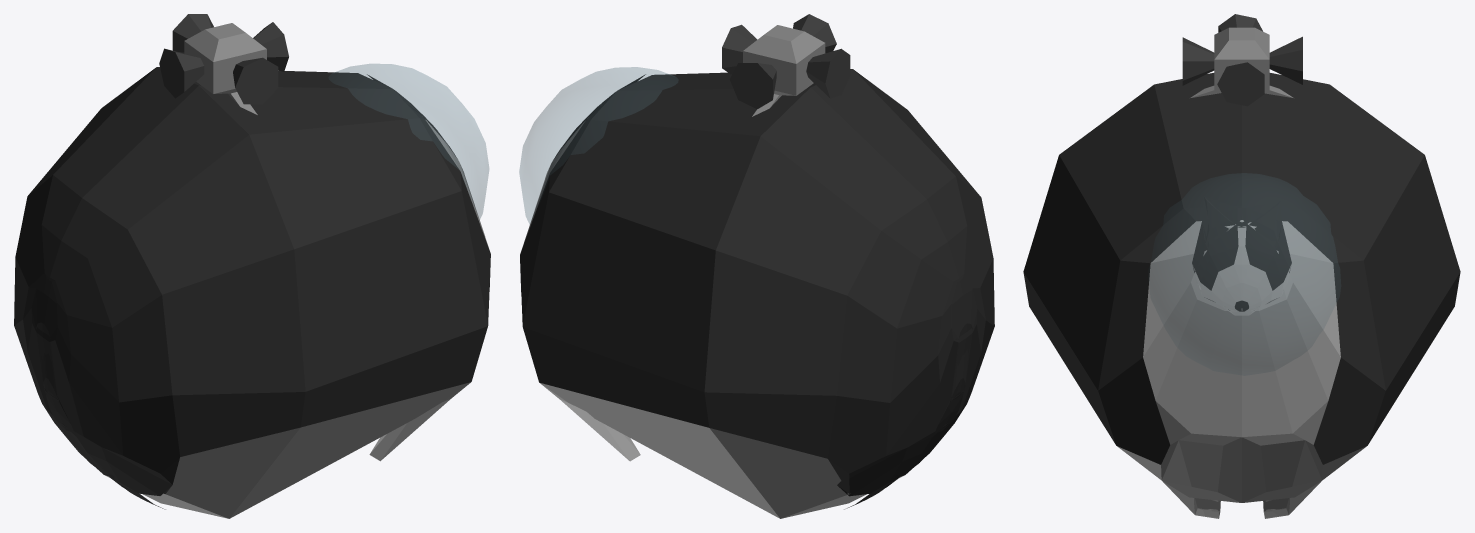
The model's file is dog.glb.
The picture shows the model from 3 angles, left to right: view 1: azimuth 30°, elevation 25°; view 2: azimuth 150°, elevation 25°; view 3: azimuth 270°, elevation 25°; orthographic projection. The views are drawn at different scales.
Visible parts, largest first — view 1: Dog.001, Helmet.001, Jetpack.001; view 2: Dog.001, Helmet.001, Jetpack.001; view 3: Dog.001, Helmet.001, Jetpack.001.
Boxes of the visible parts, box(x1,y1,x2,y2) form: Dog.001: box(14, 67, 490, 518); Helmet.001: box(329, 64, 488, 218); Jetpack.001: box(159, 14, 288, 114); Dog.001: box(520, 69, 994, 518); Helmet.001: box(519, 67, 677, 224); Jetpack.001: box(722, 14, 850, 116); Dog.001: box(1023, 73, 1460, 518); Helmet.001: box(1148, 173, 1340, 375); Jetpack.001: box(1182, 14, 1302, 106).
Bounding box in the file's own units: 1.47 × 1.48 × 1.35.
